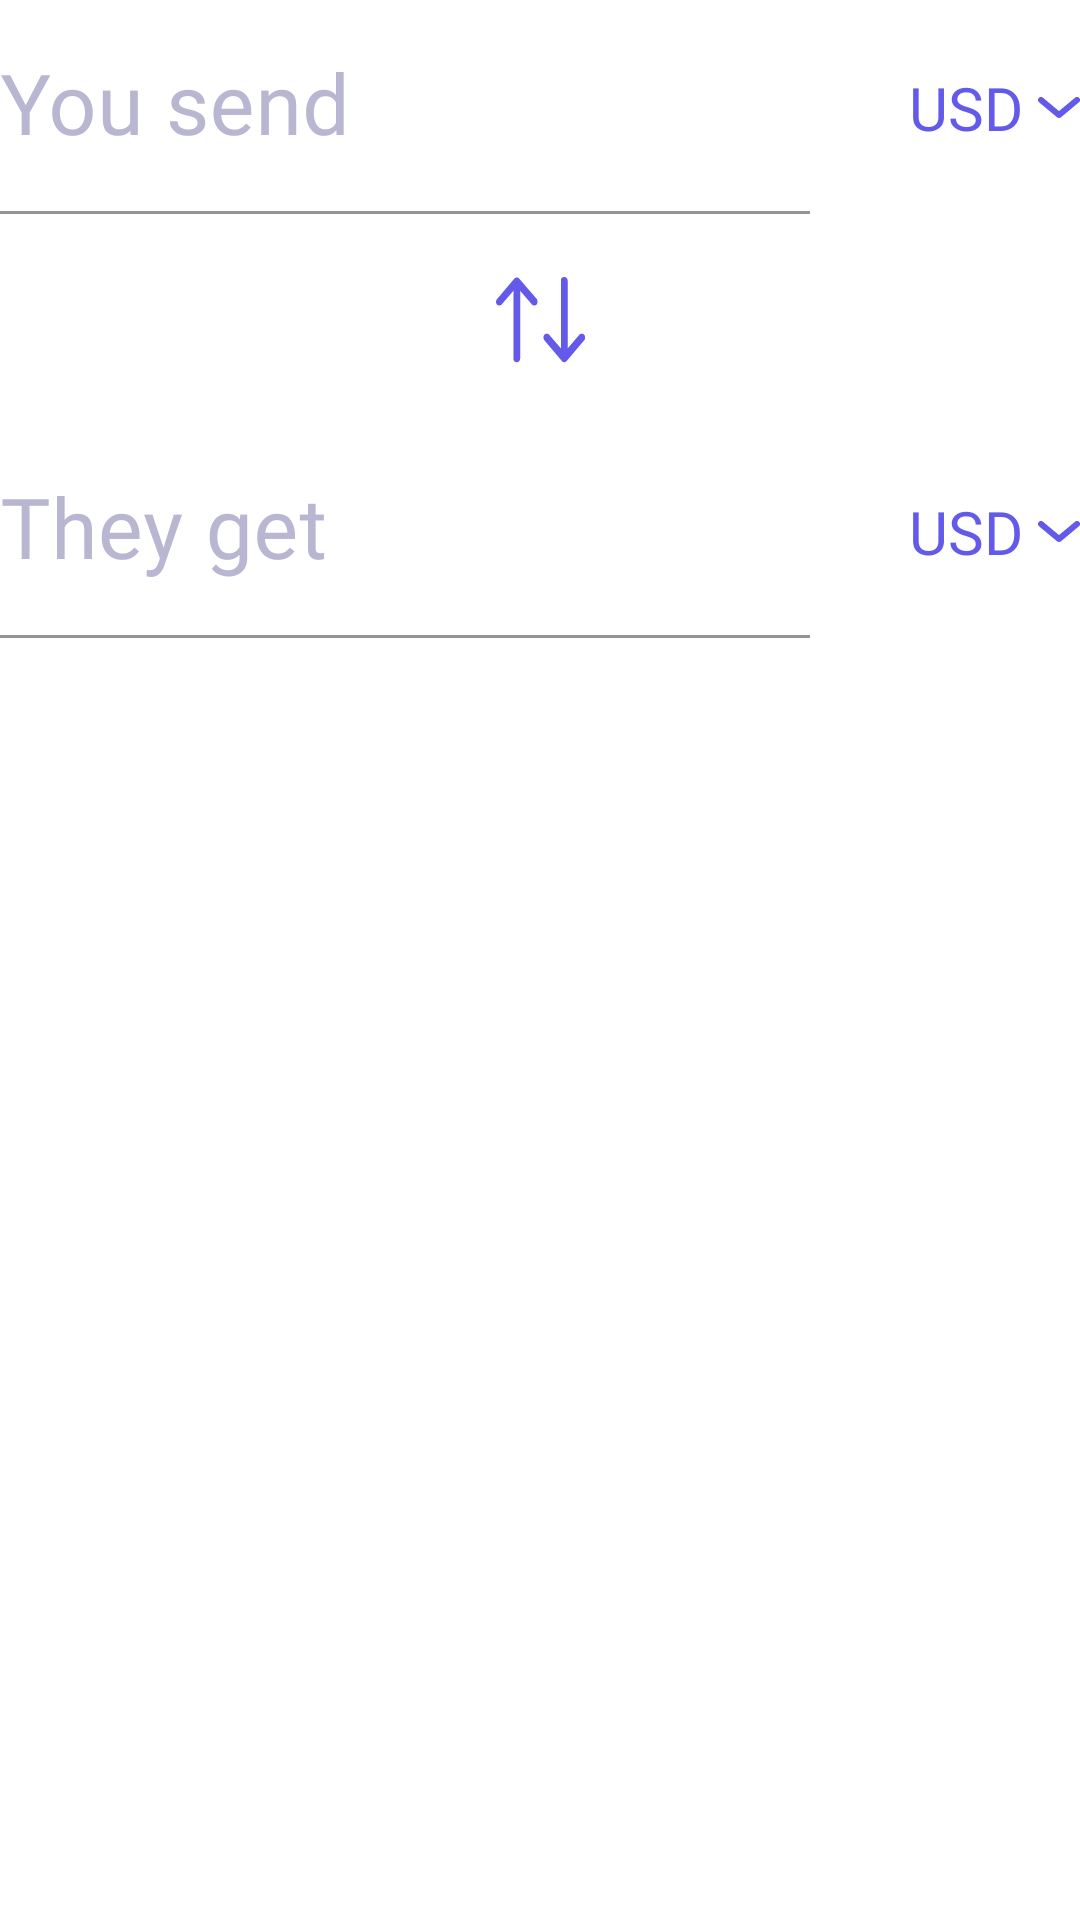

Where icons sit on this 1080×1920 app screen, as {"x1": x1, "y1": y1, "x2": x2, "y2": y2}:
arrows: {"x1": 496, "y1": 277, "x2": 585, "y2": 363}
